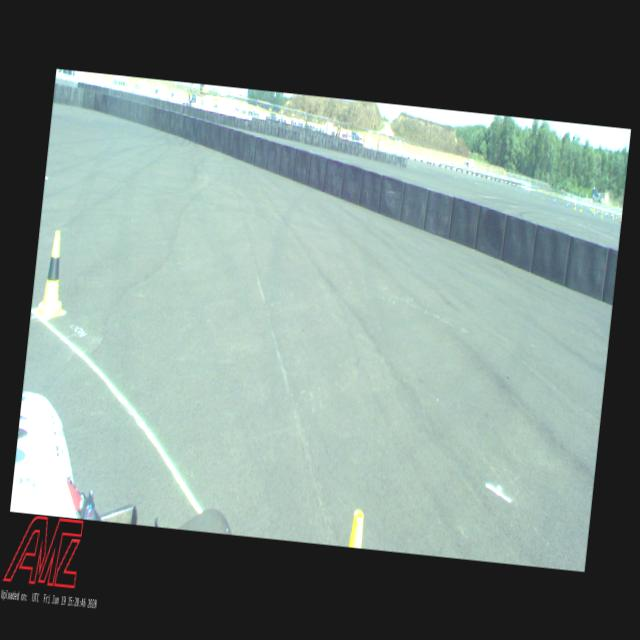yellow_cone: (35, 229, 72, 321)
